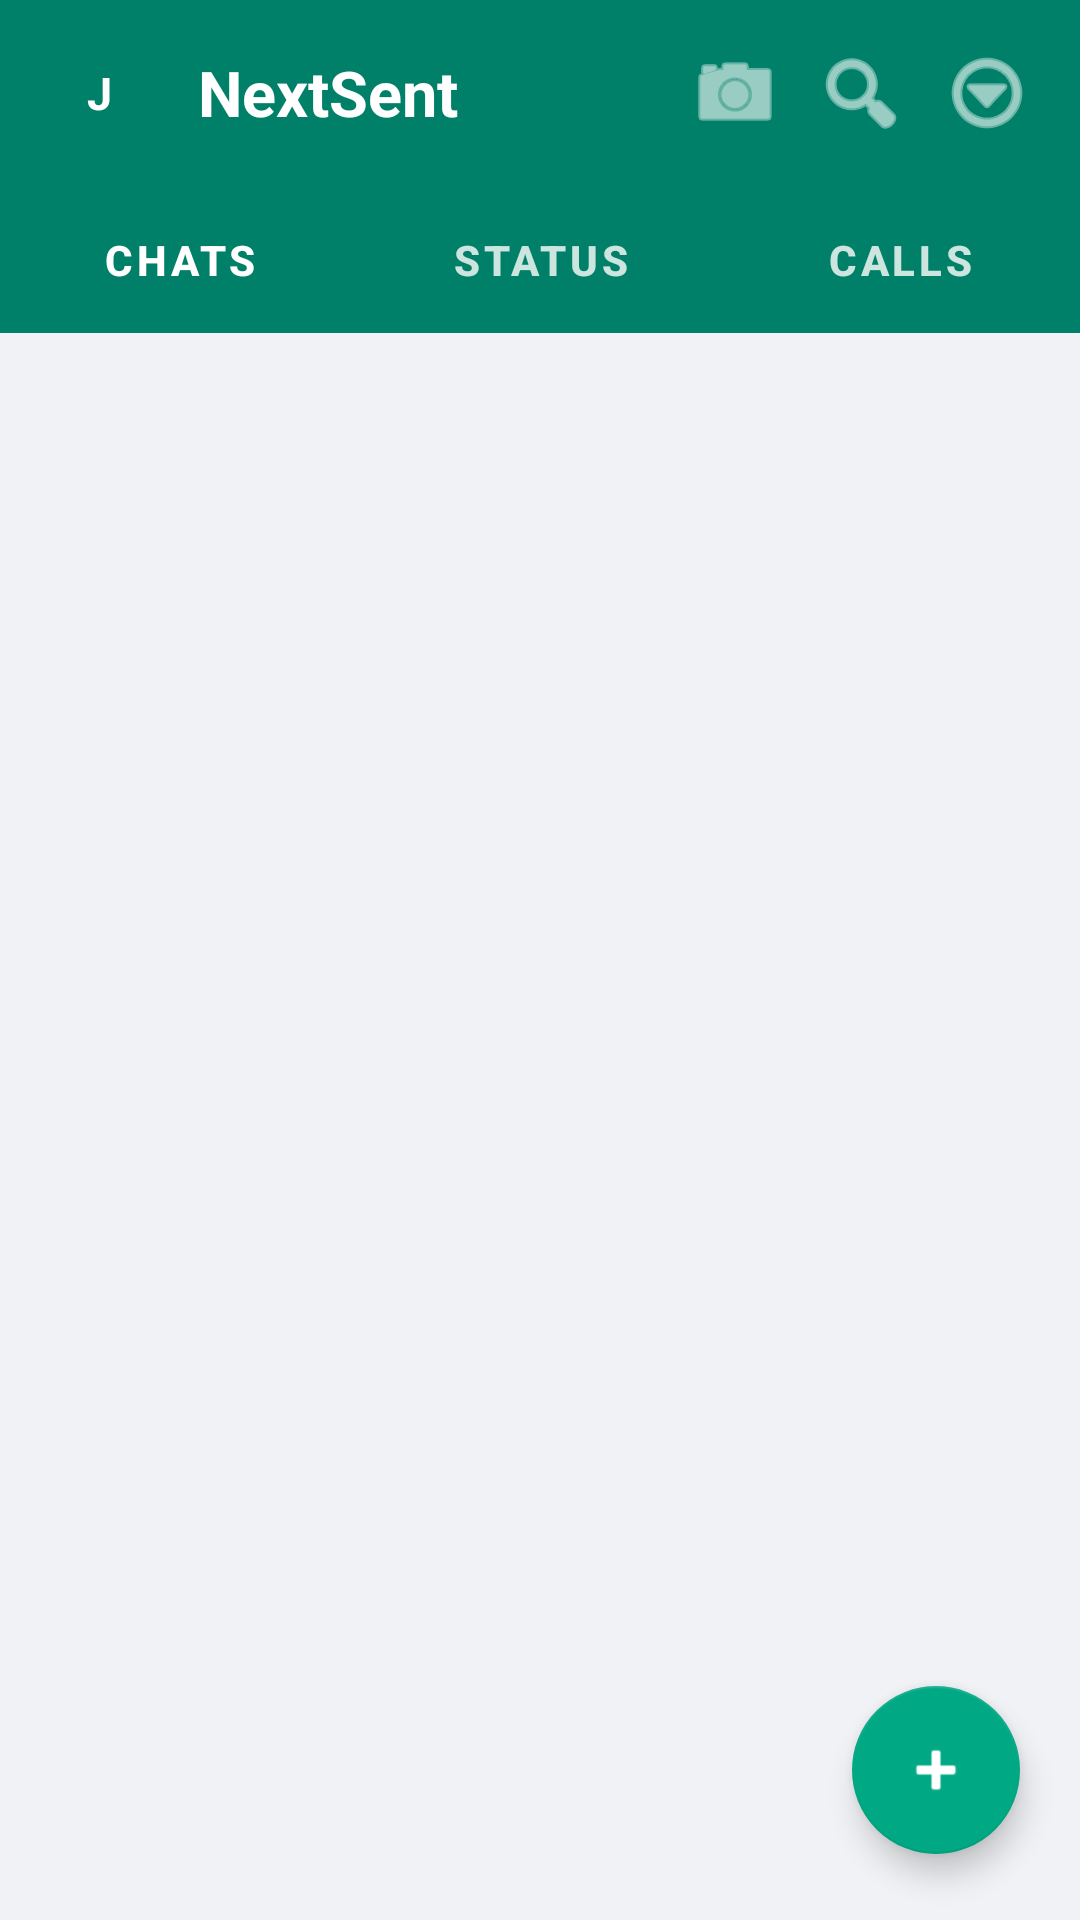

Named icons in this screenshot (1080w x 1920h) and their centers, [x,y]:
Camera: [735,91]
Search: [861,93]
